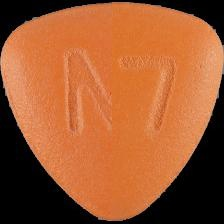53808-0600: (0, 0, 224, 224)
